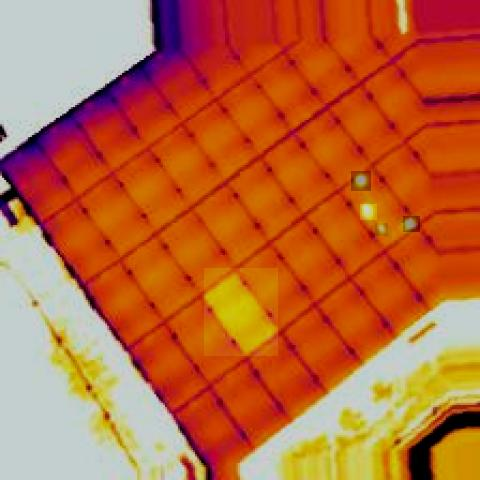fault: (204, 268, 278, 356), (351, 171, 371, 191), (403, 216, 420, 232), (360, 204, 377, 220), (375, 223, 388, 236)
